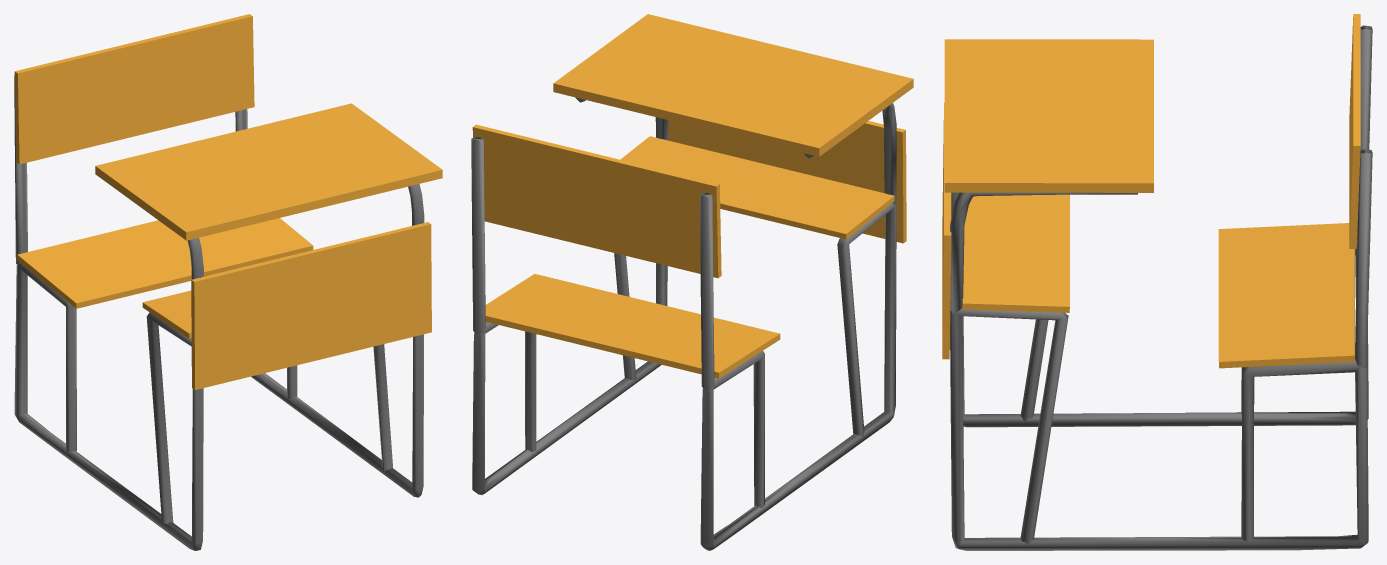
Rendered from desk.fbx.
The picture shows the model from 3 angles, left to right: view 1: azimuth 30°, elevation 25°; view 2: azimuth 150°, elevation 25°; view 3: azimuth 270°, elevation 25°; orthographic projection. The views are drawn at different scales.
Visible parts, largest first — view 1: Cube.004; view 2: Cube.004; view 3: Cube.004.
Boxes of the visible parts, x1=… form: Cube.004: x1=14, y1=14, x2=442, y2=550; Cube.004: x1=471, y1=14, x2=913, y2=550; Cube.004: x1=942, y1=14, x2=1372, y2=550.
Size of the model in its own units: 277 by 367 by 350.
